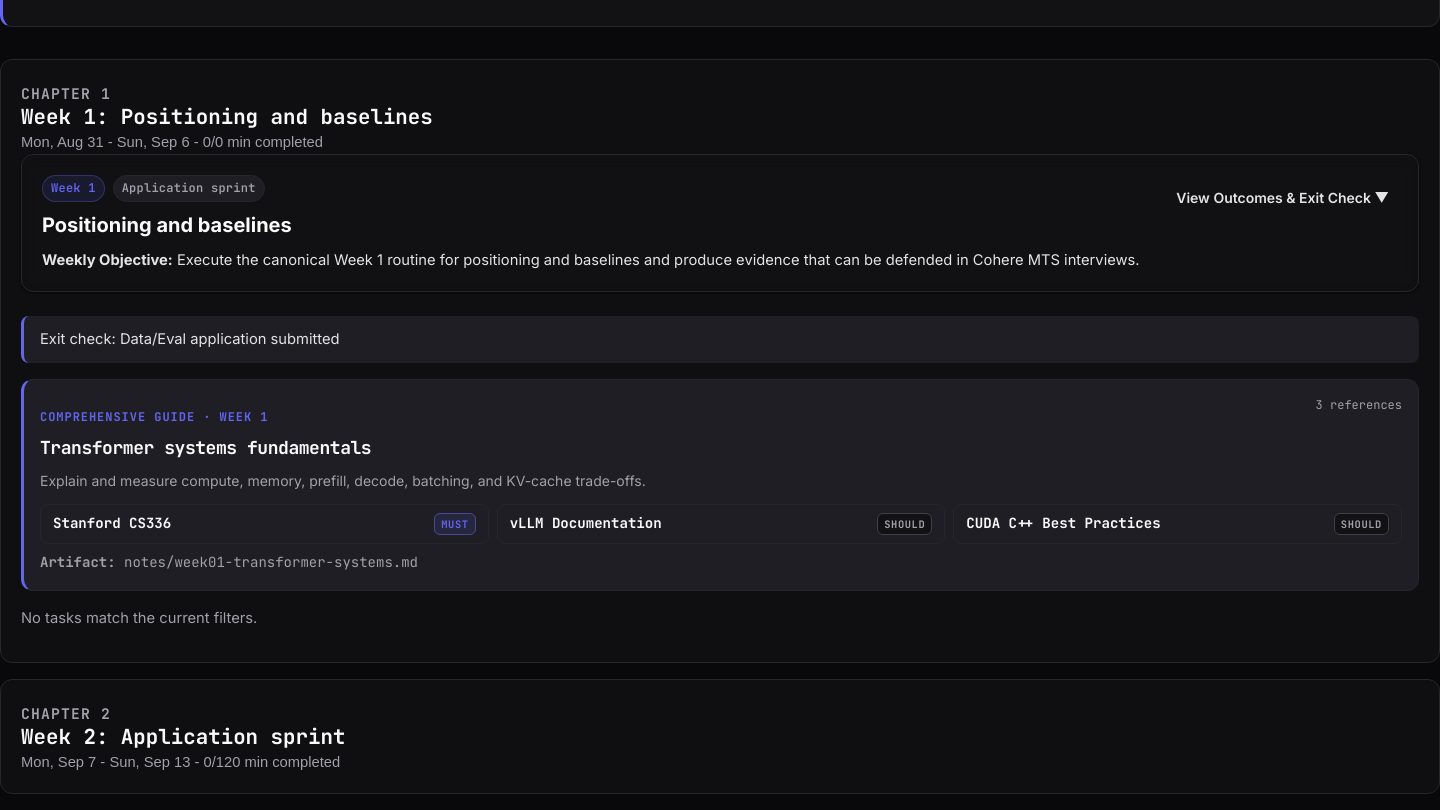
it: PlanView › groups tasks by scheduled date into weeks: a rescheduled task moves weeks
The width and height of the screenshot is (1440, 810).
(page scrolled)
Step 1. Click the button "Week 2:" → coordinates (61, 713), box [21, 700, 1419, 770]
(page scrolled)
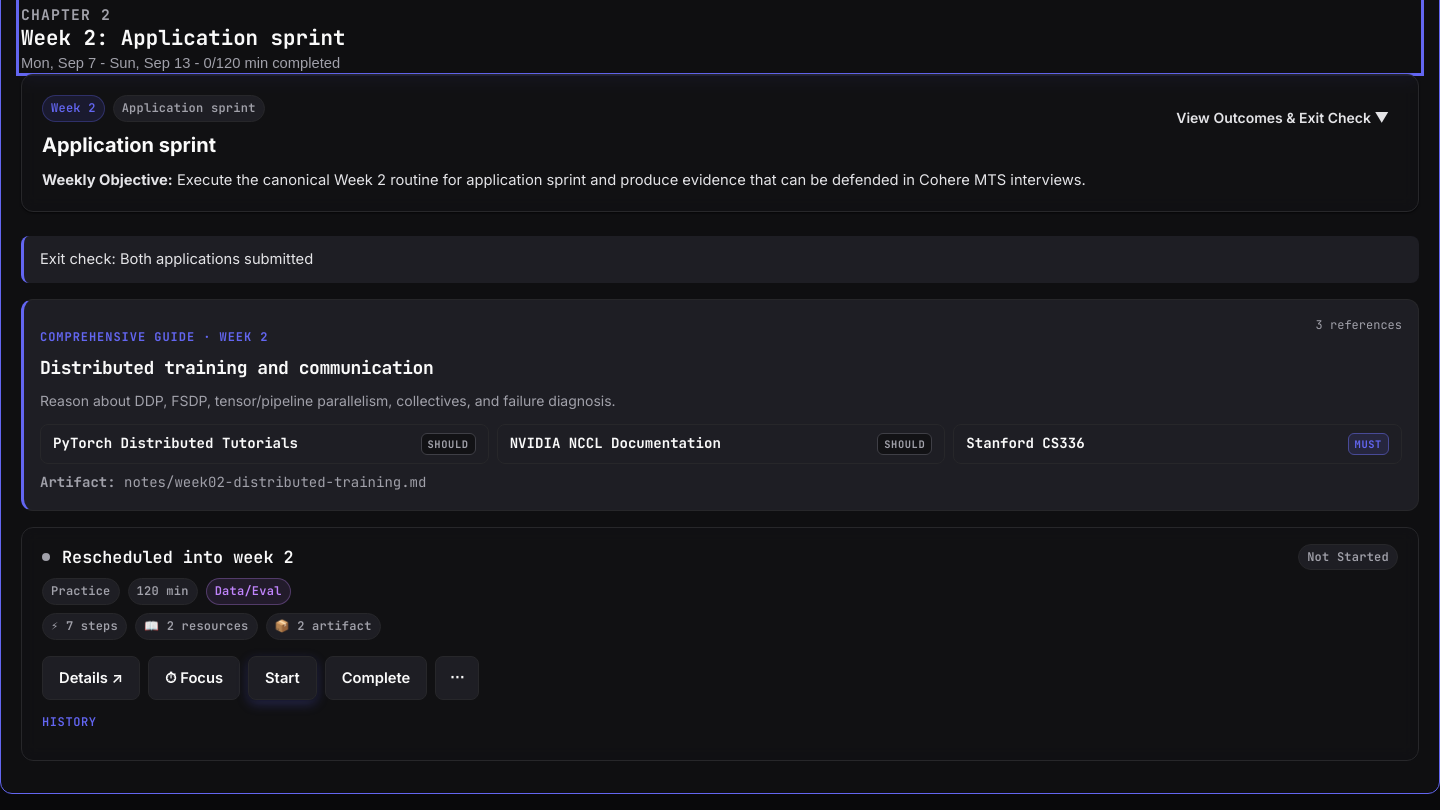
expect the heading "Rescheduled into week 2" is shown: met, box [62, 546, 294, 568]
